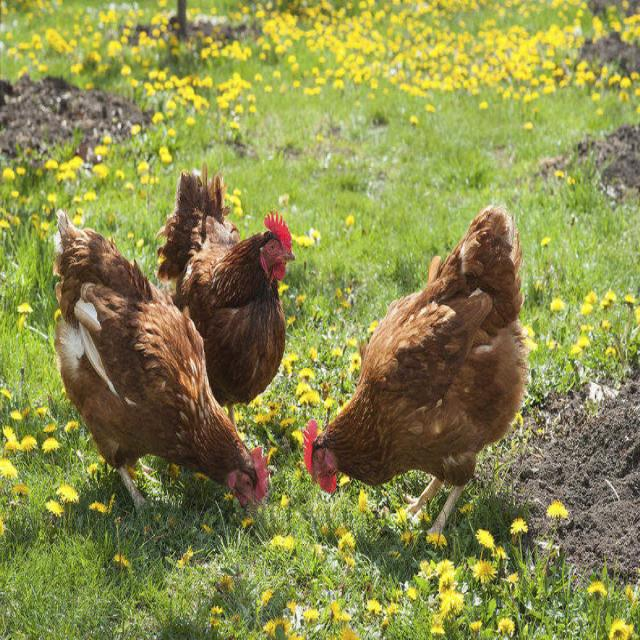chicken: (52, 170, 294, 511), (302, 202, 534, 551), (306, 206, 528, 530), (49, 207, 270, 525), (153, 165, 296, 431)
